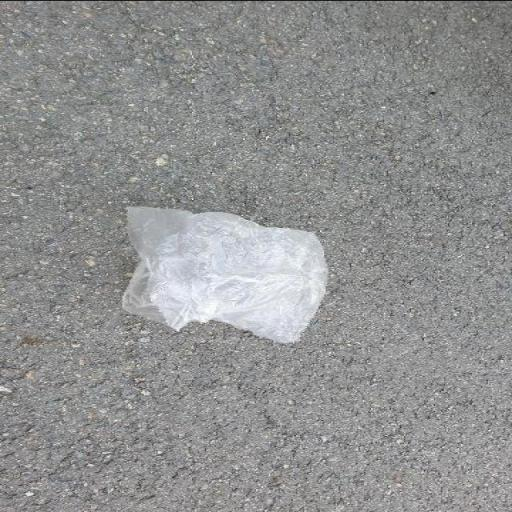plastic-bag: (120, 204, 329, 346)
